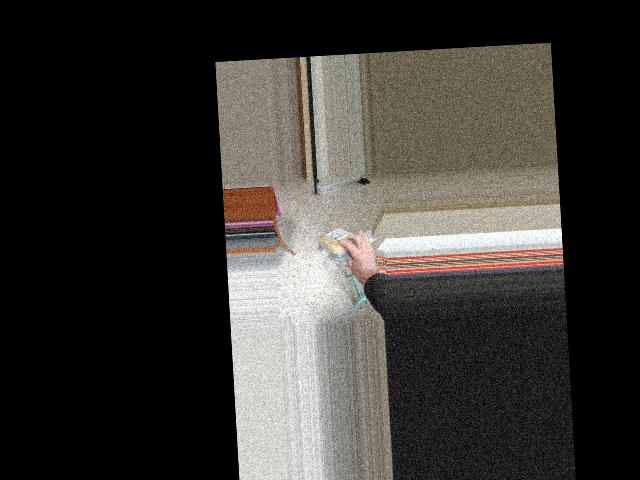cheese: (314, 225, 361, 257)
